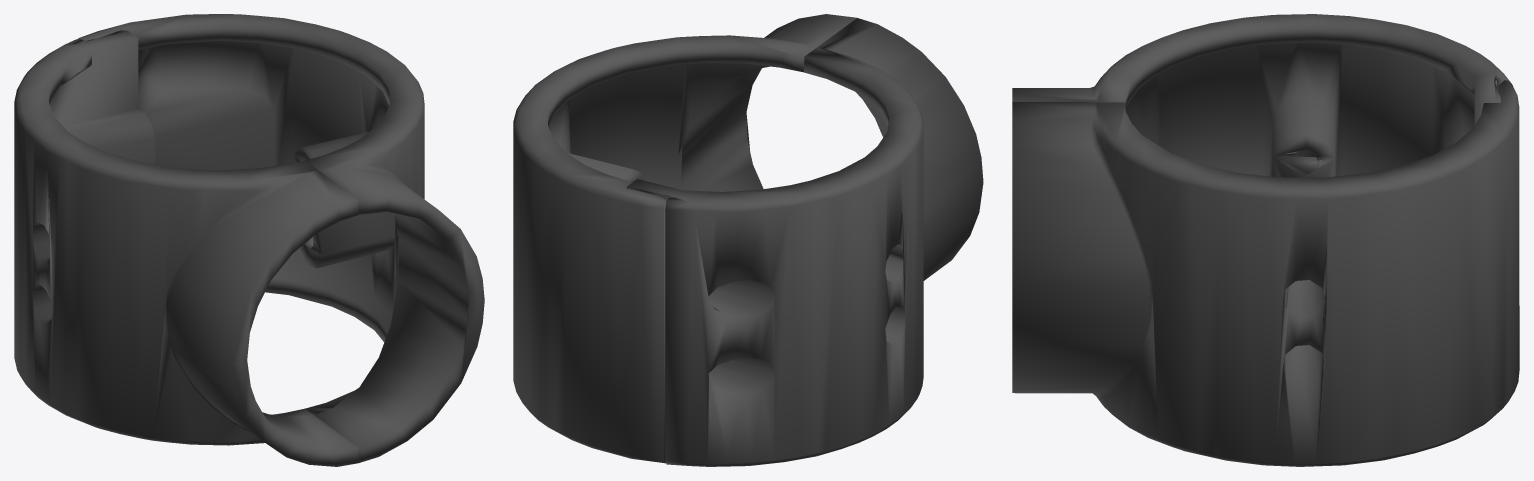
File: wrist_flex.obj
3 renders of one model, left to right at view 1: azimuth 30°, elevation 25°; view 2: azimuth 150°, elevation 25°; view 3: azimuth 270°, elevation 25°, orthographic. The views are drawn at different scales.
Visible parts, largest first — view 1: SM_Wrist_Flex; view 2: SM_Wrist_Flex; view 3: SM_Wrist_Flex.
Boxes of the visible parts, x1=… form: SM_Wrist_Flex: x1=14, y1=14, x2=484, y2=466; SM_Wrist_Flex: x1=513, y1=14, x2=983, y2=466; SM_Wrist_Flex: x1=1012, y1=14, x2=1519, y2=466.
Bounding box in the file's own units: 0.048 × 0.034 × 0.0565.
1 material, 1 textured.
